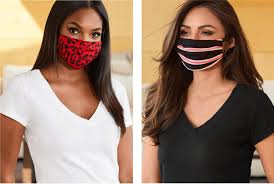with-mask: (172, 5, 238, 83), (52, 7, 112, 78)
